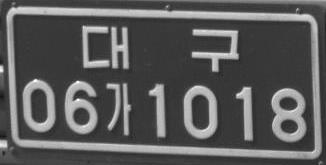0: (182, 85, 218, 138), (21, 78, 55, 132)
1: (229, 86, 263, 141), (144, 84, 174, 138)
6: (64, 79, 98, 134)
8: (270, 86, 306, 143)
가: (106, 82, 132, 136)
대구_D: (81, 24, 238, 74)
